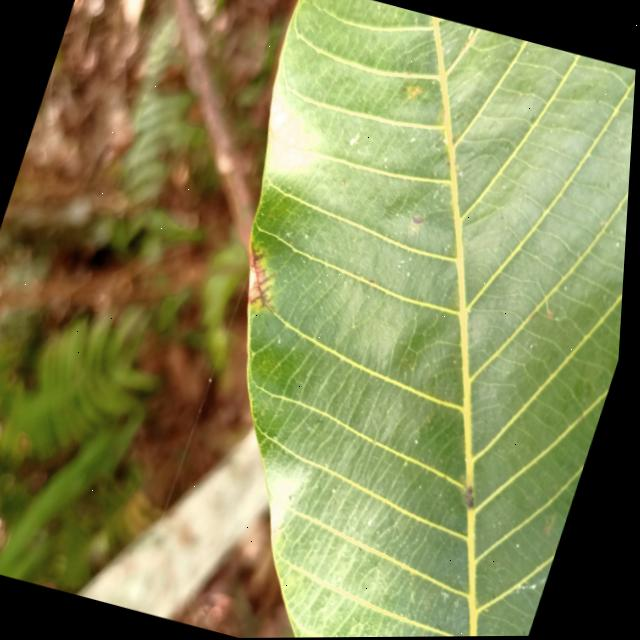Corynespora: (236, 245, 296, 315)
